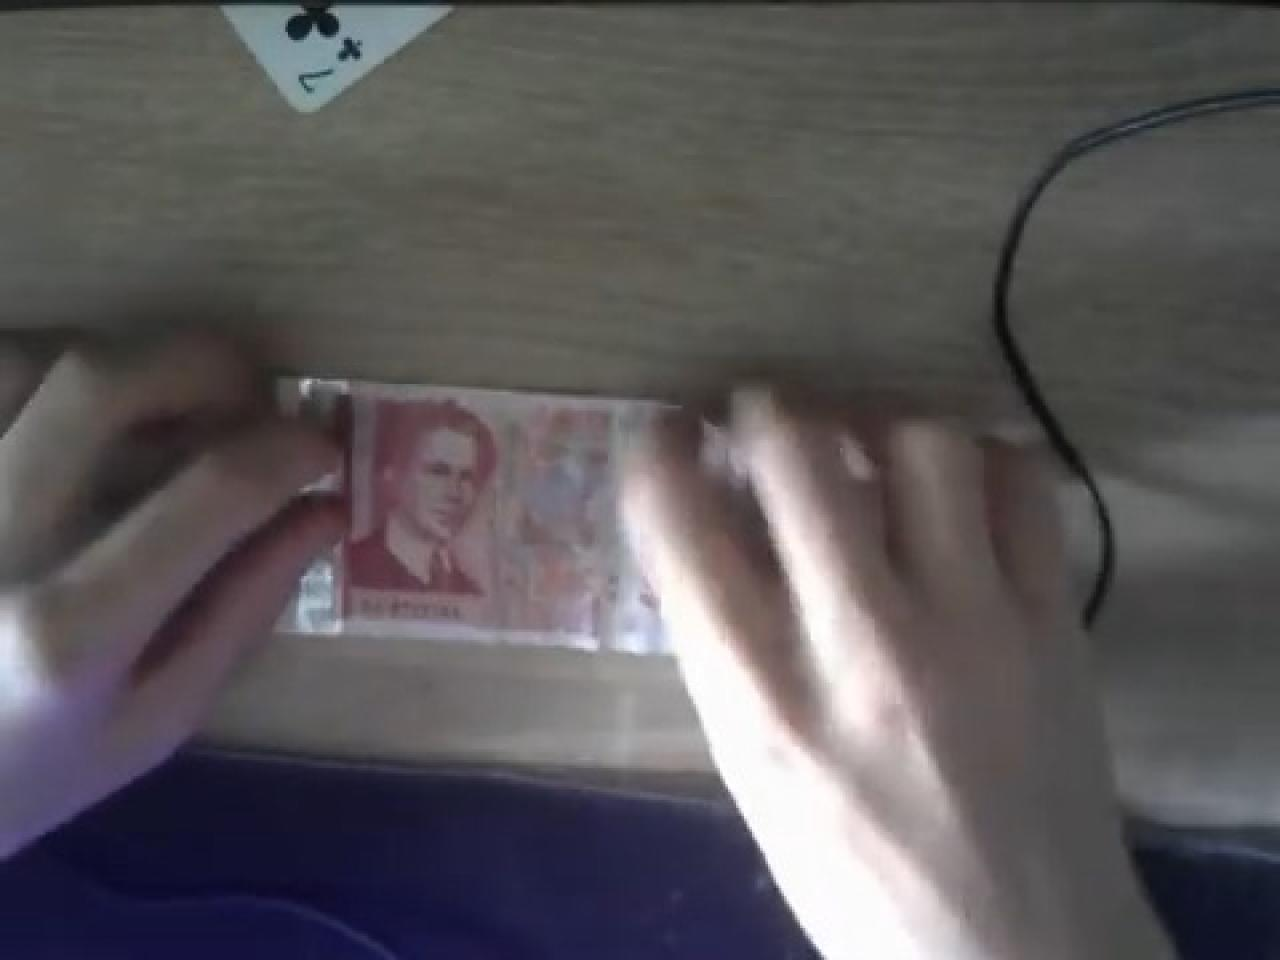5leva: (306, 381, 651, 645)
